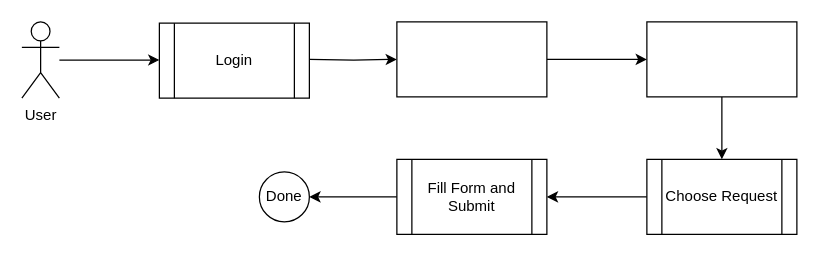
The diagram is 819 pixels wide and 256 high, and some of its shapes have lost their labels. The shapes that lost their labels are listed below. From the top down, each one's box as (x1, y1, x2, y2) in pixels, then its label:
(396, 21, 547, 97): Homepage
(646, 21, 797, 97): Request Page
